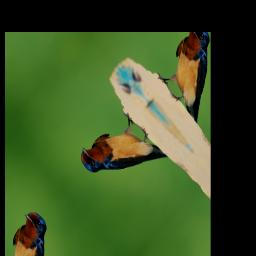Swallow: (75, 101, 170, 211)
